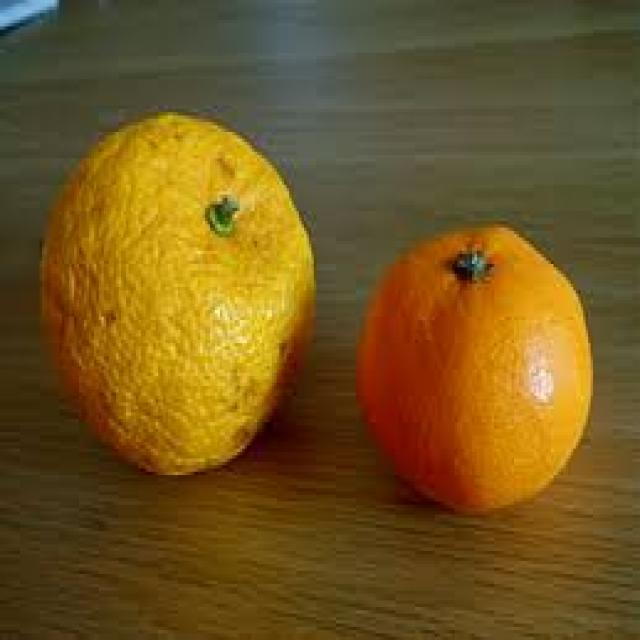Orange: (48, 125, 311, 480), (380, 238, 592, 509)
